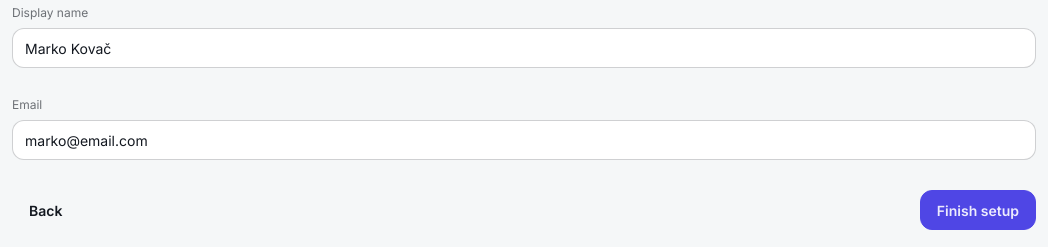
Test case: AC4: a valid form submits everything and opens Check your email › leaves the submit disabled after a success
This screenshot has width=1048, height=247.
Step 1. Click the button "Finish setup" → (978, 210), box [920,190,1036,230]
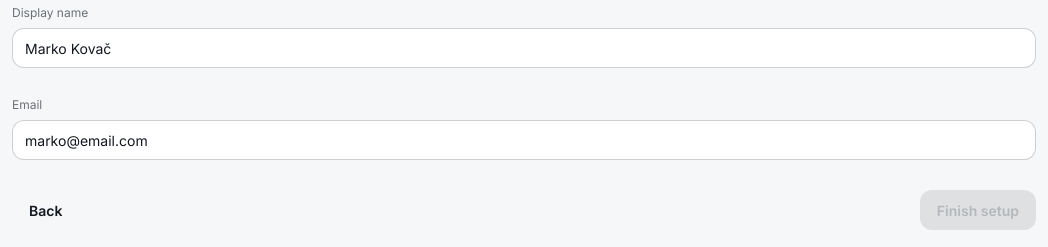
Expected: the button "Finish setup" is disabled, [920,190,1036,230]
